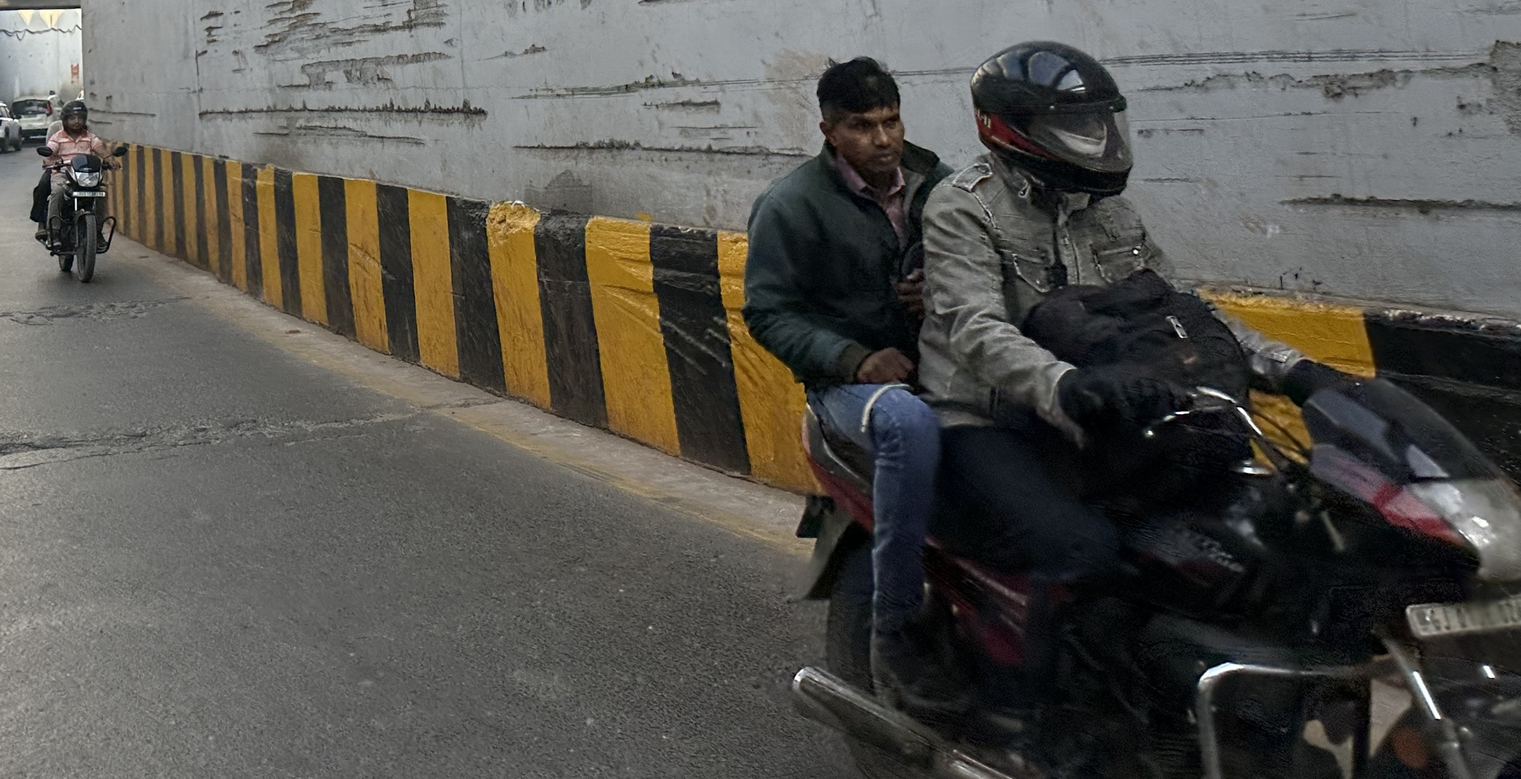BikeWithRider: (719, 30, 1520, 779), (18, 89, 133, 294)
Helmet: (959, 34, 1157, 206), (45, 84, 99, 149), (54, 100, 95, 139)
NoHelmet: (802, 48, 922, 186)
